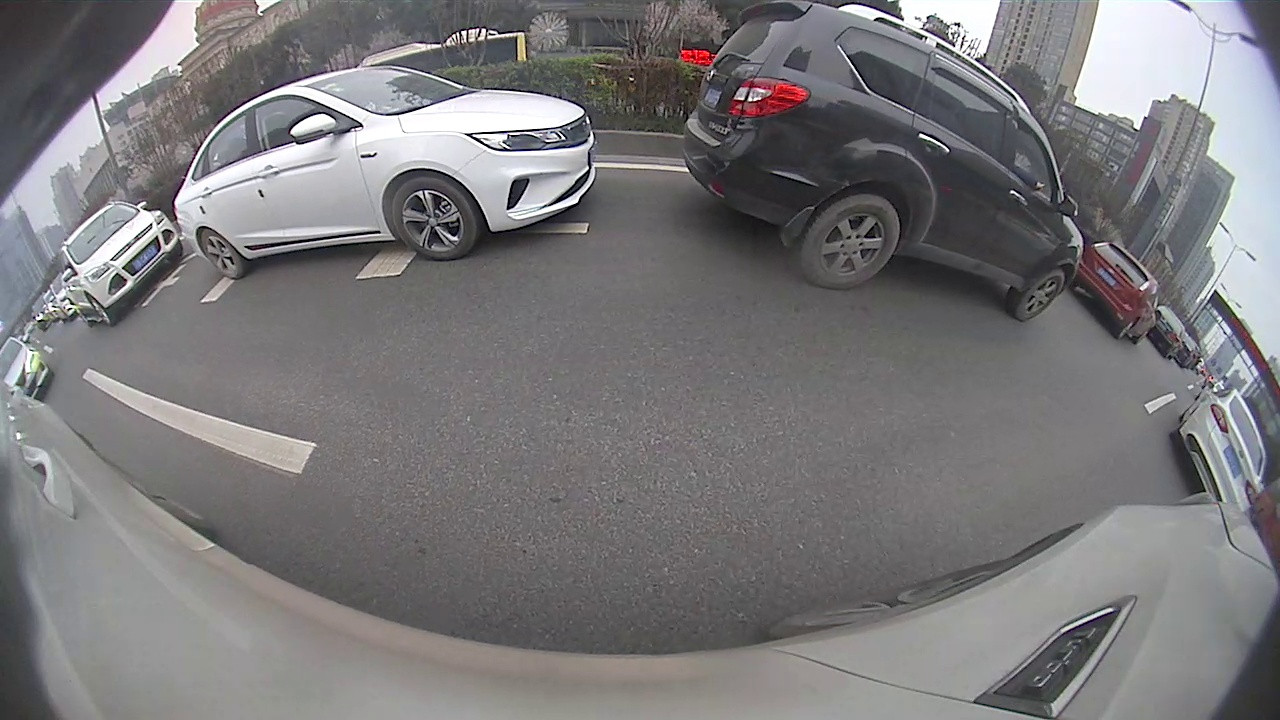car: (679, 0, 1085, 323), (171, 64, 597, 280), (57, 202, 183, 327), (1170, 388, 1268, 514), (1075, 241, 1163, 346), (1, 336, 54, 401)
front: (392, 173, 480, 261), (1010, 266, 1065, 322), (87, 292, 116, 328)
rear: (797, 191, 902, 289), (199, 228, 248, 281)
